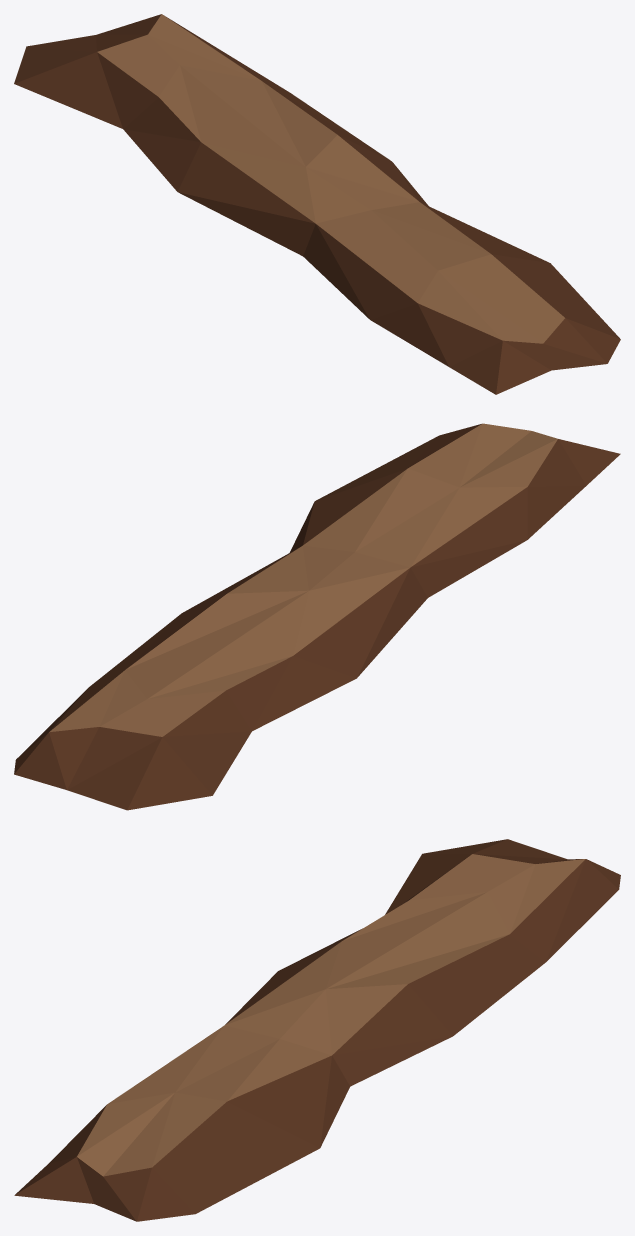
Rendered from Road_ground_1 Asia.fbx.
The picture shows the model from 3 angles, top to bottom: view 1: azimuth 30°, elevation 25°; view 2: azimuth 150°, elevation 25°; view 3: azimuth 330°, elevation 25°; orthographic projection. The views are drawn at different scales.
Visible parts, largest first — view 1: Road_ground_1; view 2: Road_ground_1; view 3: Road_ground_1.
Boxes of the visible parts, x1,y1,x2,y2 form: Road_ground_1: (14, 14, 620, 394); Road_ground_1: (14, 423, 620, 810); Road_ground_1: (14, 839, 620, 1221).
Size of the model in its own units: 1.68 by 0.2837 by 6.31.
